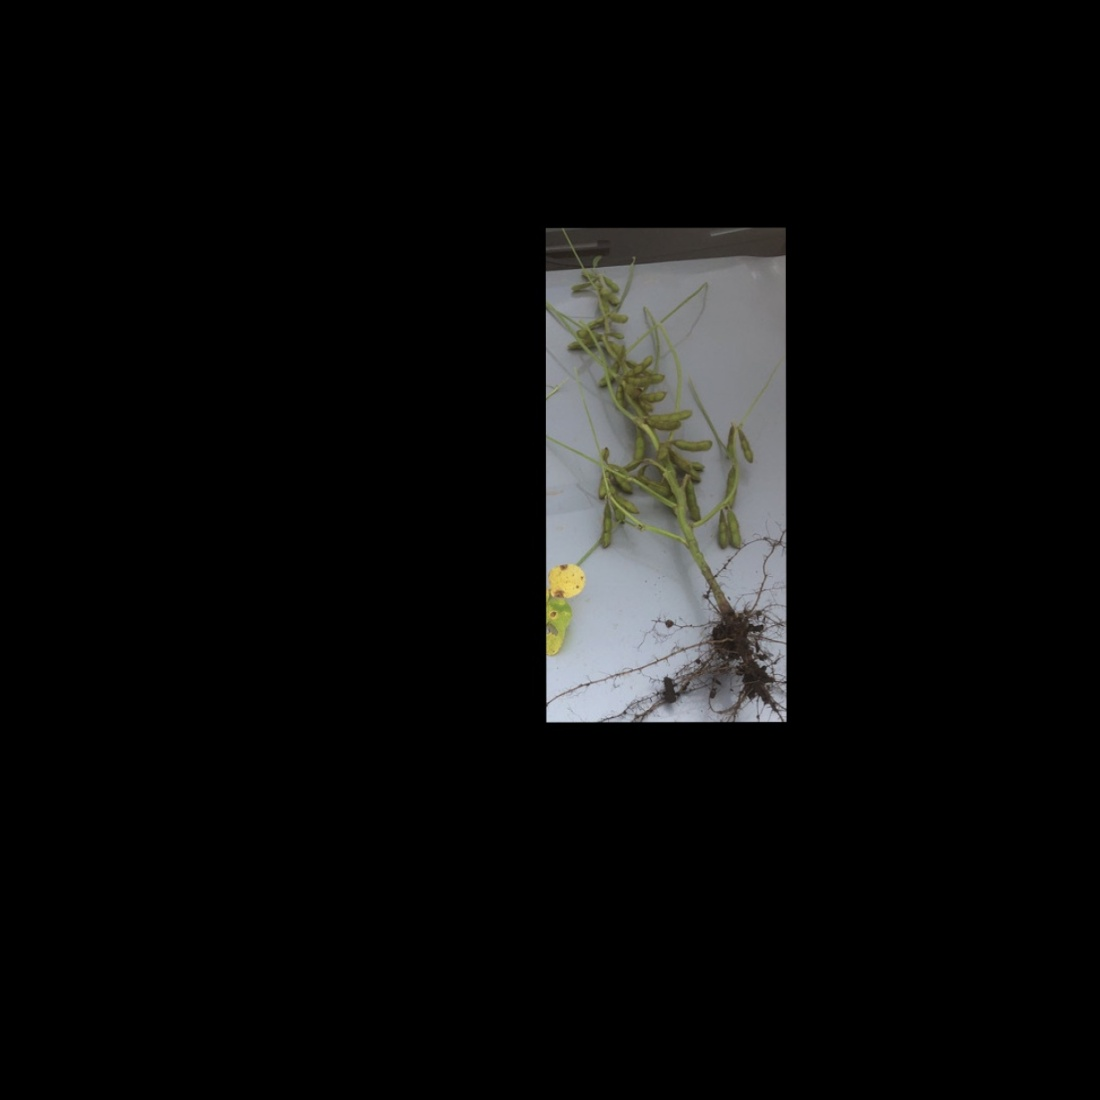pod: (738, 428, 760, 468), (684, 479, 704, 522), (726, 506, 745, 550), (671, 435, 714, 454), (598, 503, 613, 549), (715, 507, 728, 551), (630, 422, 643, 460), (606, 309, 630, 325), (603, 273, 622, 293), (638, 391, 668, 402), (604, 328, 625, 339)
soy: (560, 250, 765, 699)
